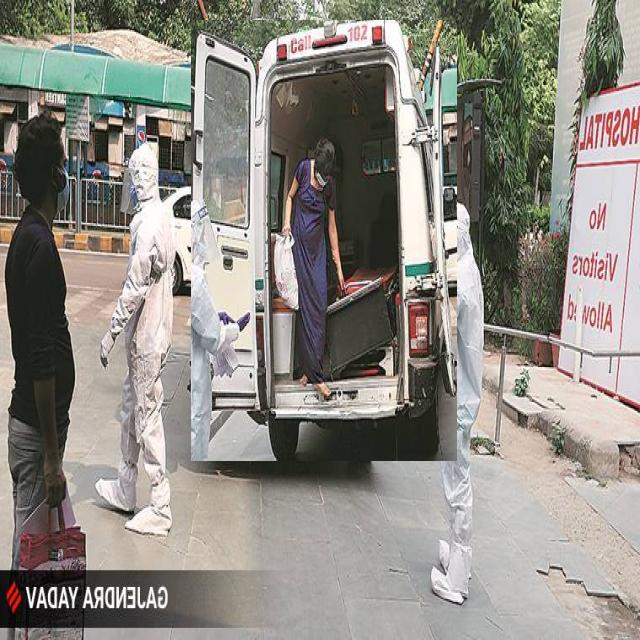emergency: (191, 20, 456, 461)
